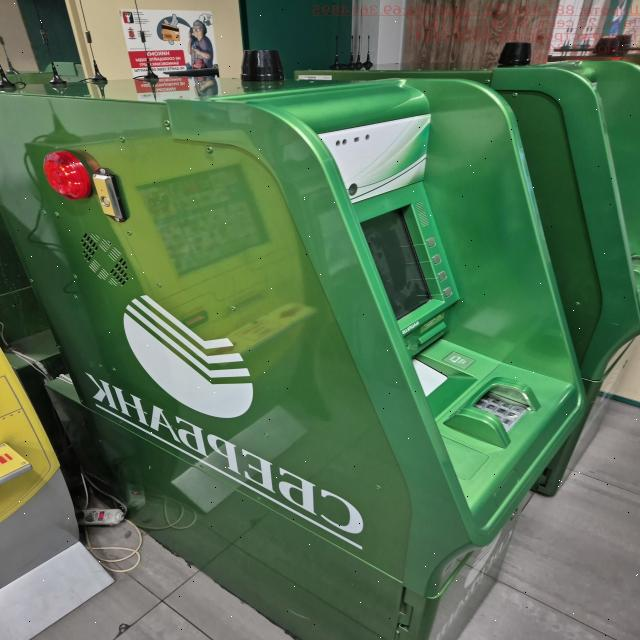bank: (0, 71, 584, 640), (483, 58, 640, 502)
